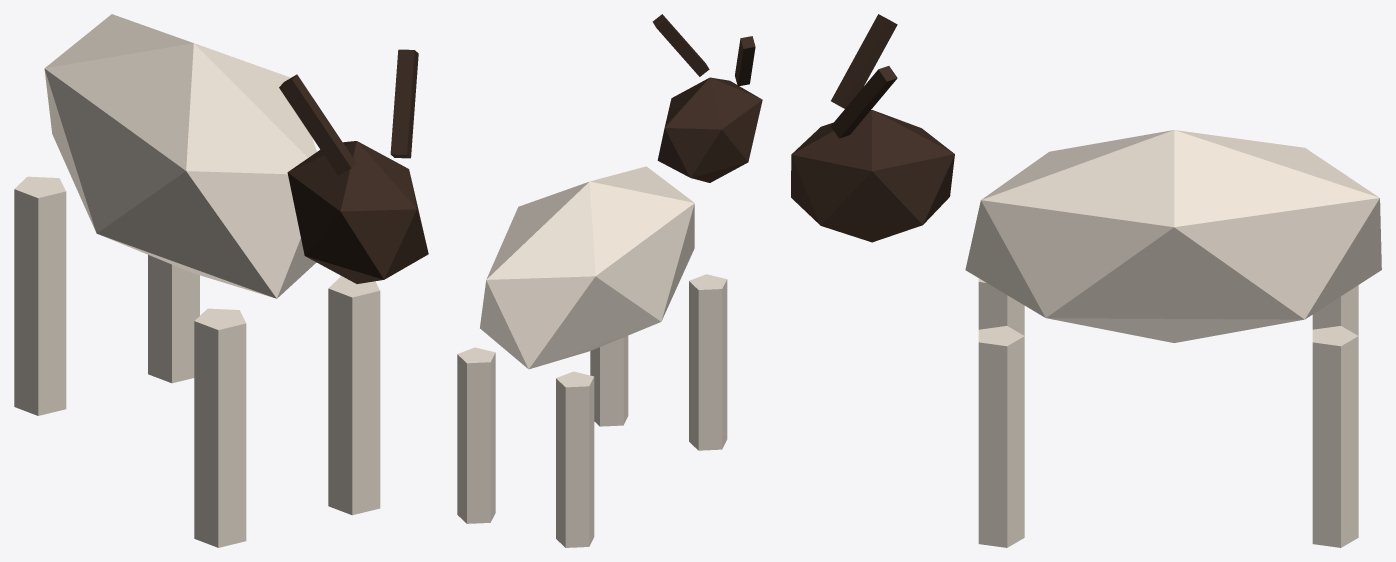
The model's file is goat.glb.
3 views of the same model, side by side, from view 1: azimuth 30°, elevation 25°; view 2: azimuth 150°, elevation 25°; view 3: azimuth 270°, elevation 25° (orthographic). The views are drawn at different scales.
Parts seen in each view (by area): view 1: Goat_Coat, Goat_Patch; view 2: Goat_Coat, Goat_Patch; view 3: Goat_Coat, Goat_Patch.
Boxes of the visible parts, <box> form: Goat_Coat: <box>14,14,380,547</box>; Goat_Patch: <box>279,49,428,283</box>; Goat_Coat: <box>457,166,727,547</box>; Goat_Patch: <box>652,14,762,182</box>; Goat_Coat: <box>965,130,1381,547</box>; Goat_Patch: <box>791,14,954,242</box>.
Bounding box in the file's own units: 1.3 × 3.23 × 3.72.
